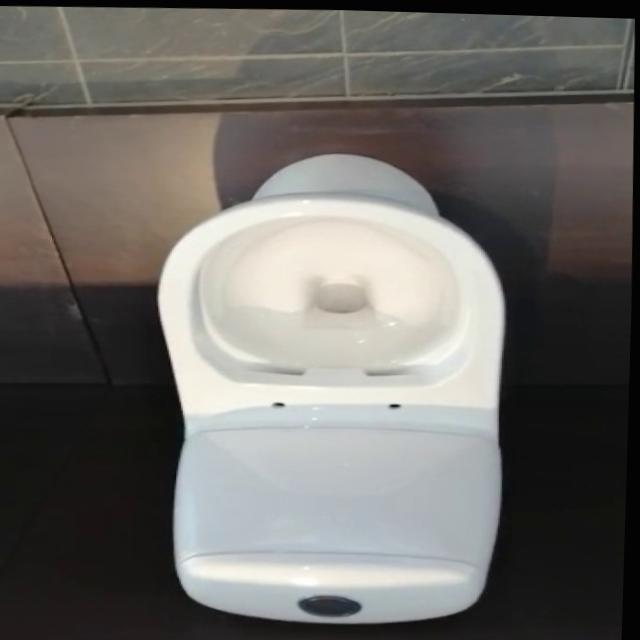toilet: (146, 143, 516, 630)
